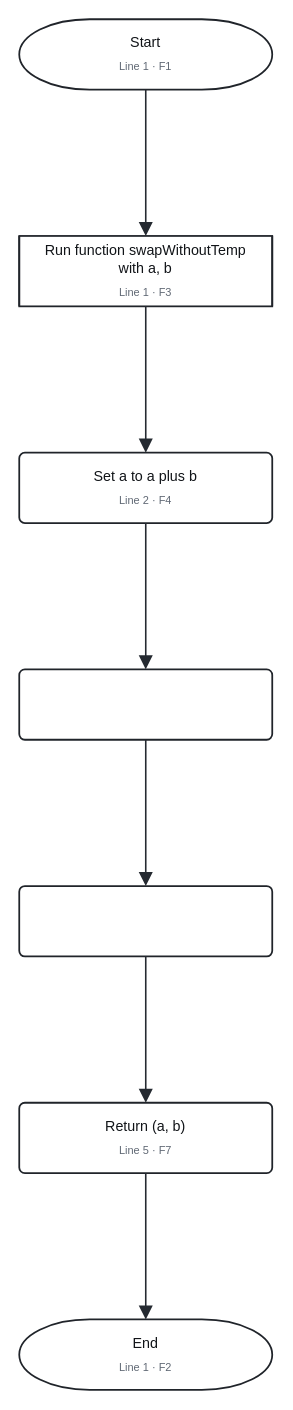
This 293x1410 diagram has some shape labels left out. The shapes that lost their labels are listed below. From the top down, each one's centre as x and y in pixels, then its label:
At pixel 145 704: "Set b to a minus b Line 3 · F5".
At pixel 145 921: "Set a to a minus b Line 4 · F6".
